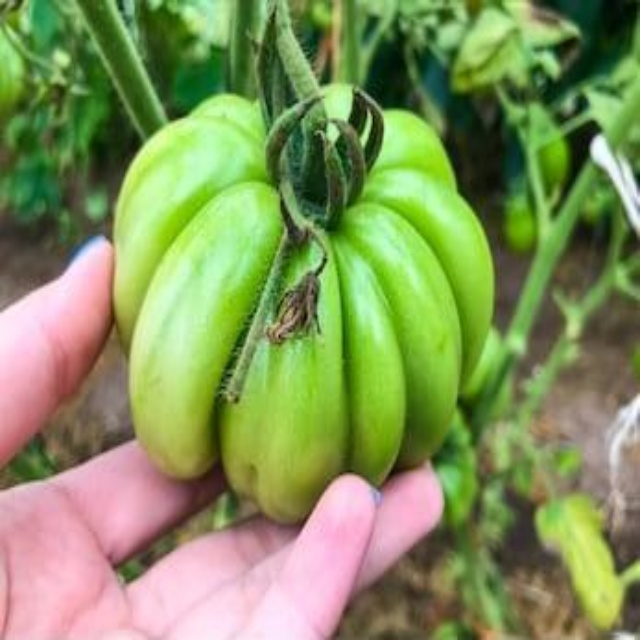tomato: (87, 74, 500, 515)
